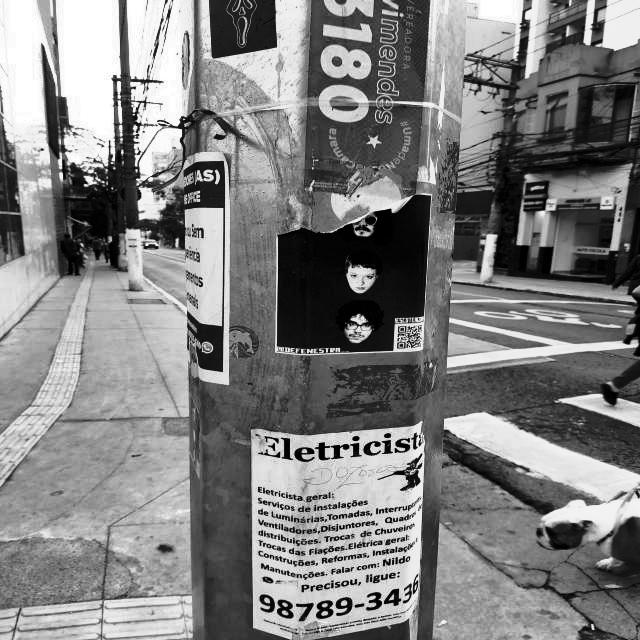qr_code: (397, 325, 422, 349)
